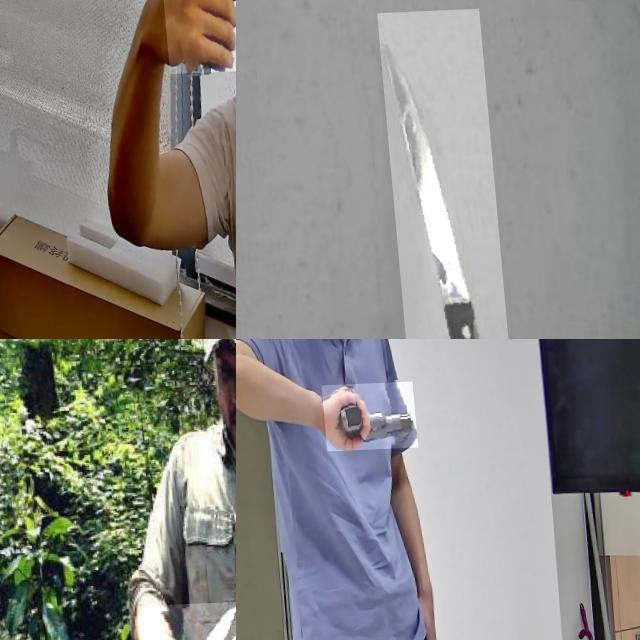-: (374, 12, 512, 339), (129, 604, 236, 640)
gun-knife-thesis - v11 Yolov5 augmented: (151, 0, 236, 100), (320, 385, 416, 455)
